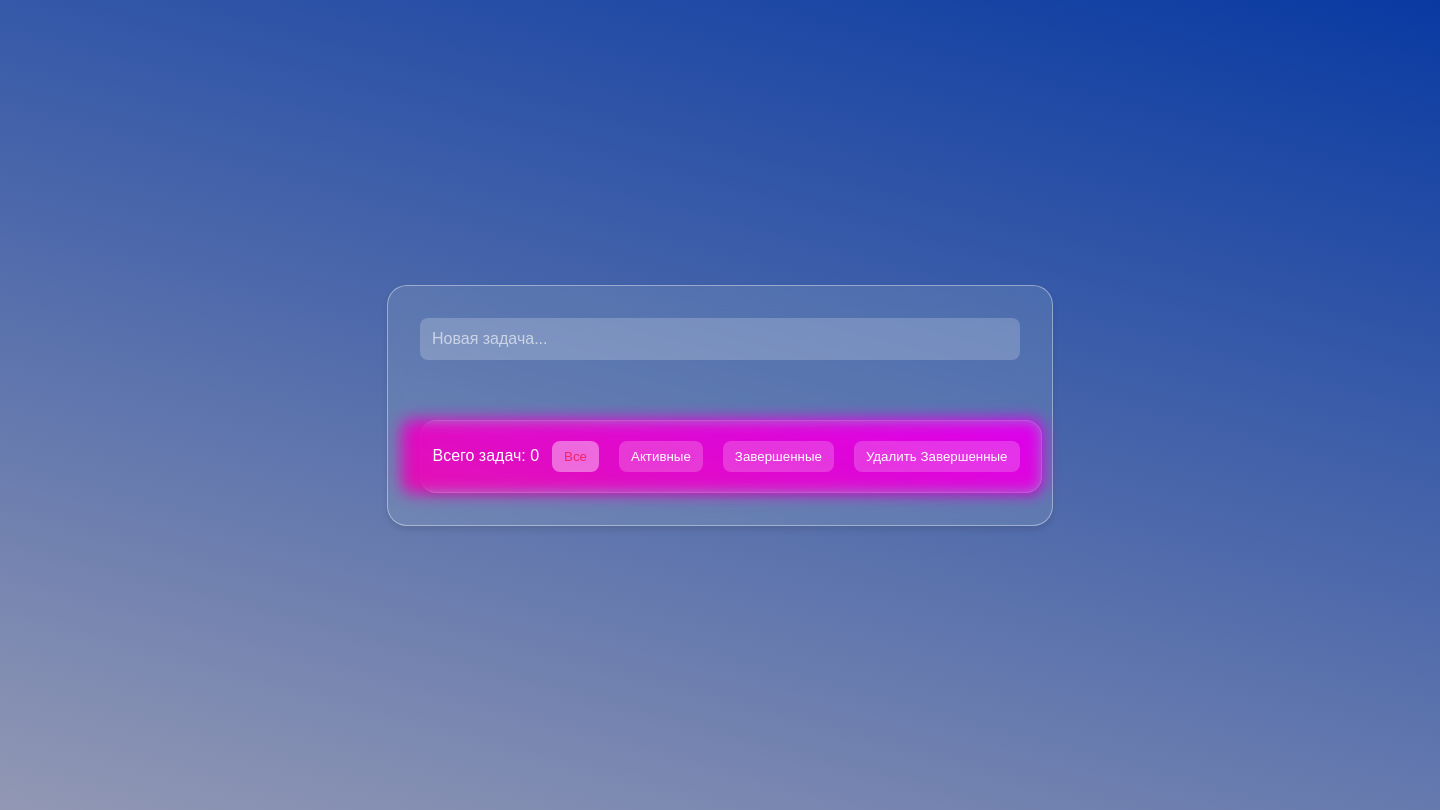
Test: удаление всех завершённых задач
// Добавляем две задачи
In the checkbox with placeholder "Новая задача...": (720, 338) [420,318,1020,360], type "Задача 1"
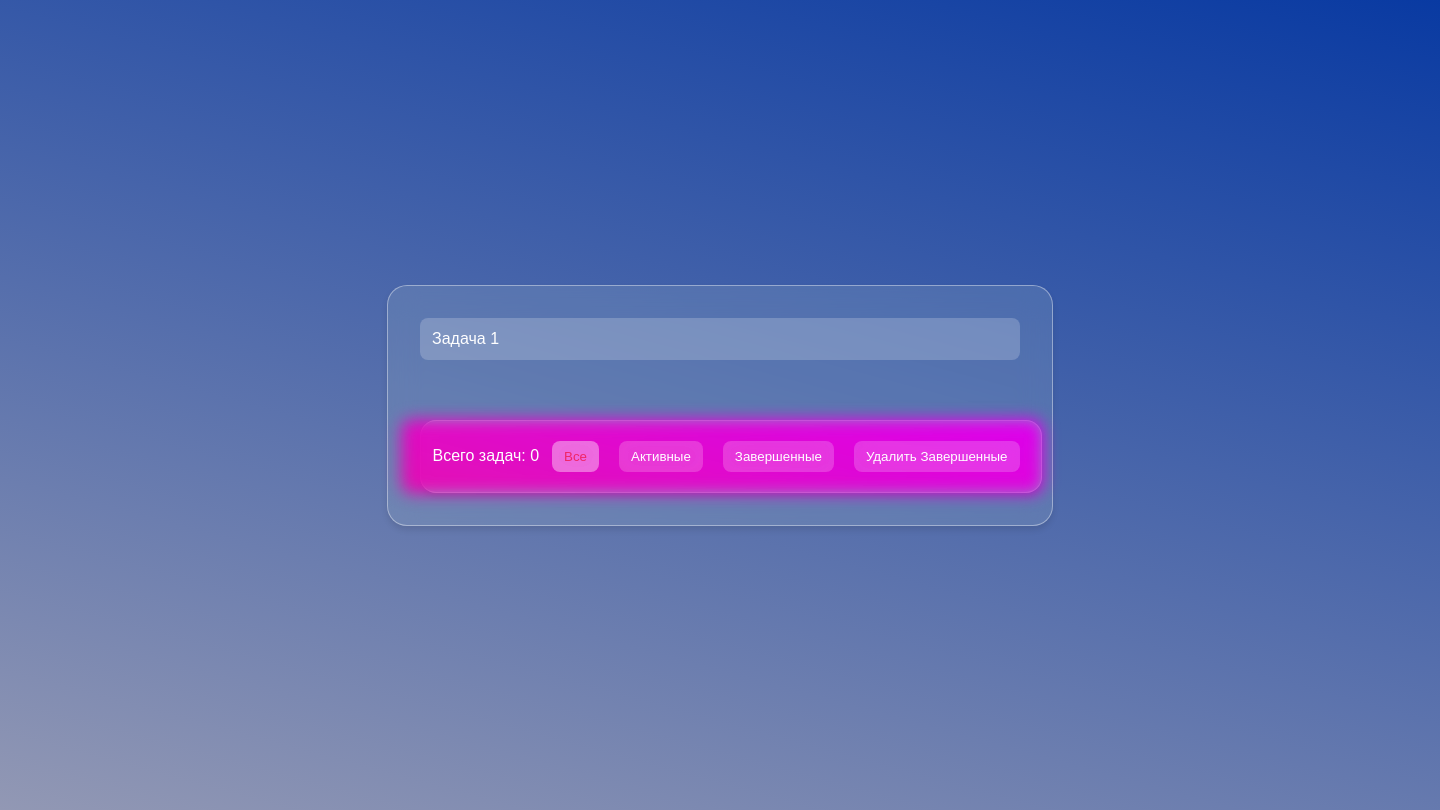
Submit the form from the checkbox with placeholder "Новая задача...", box [420,318,1020,360]
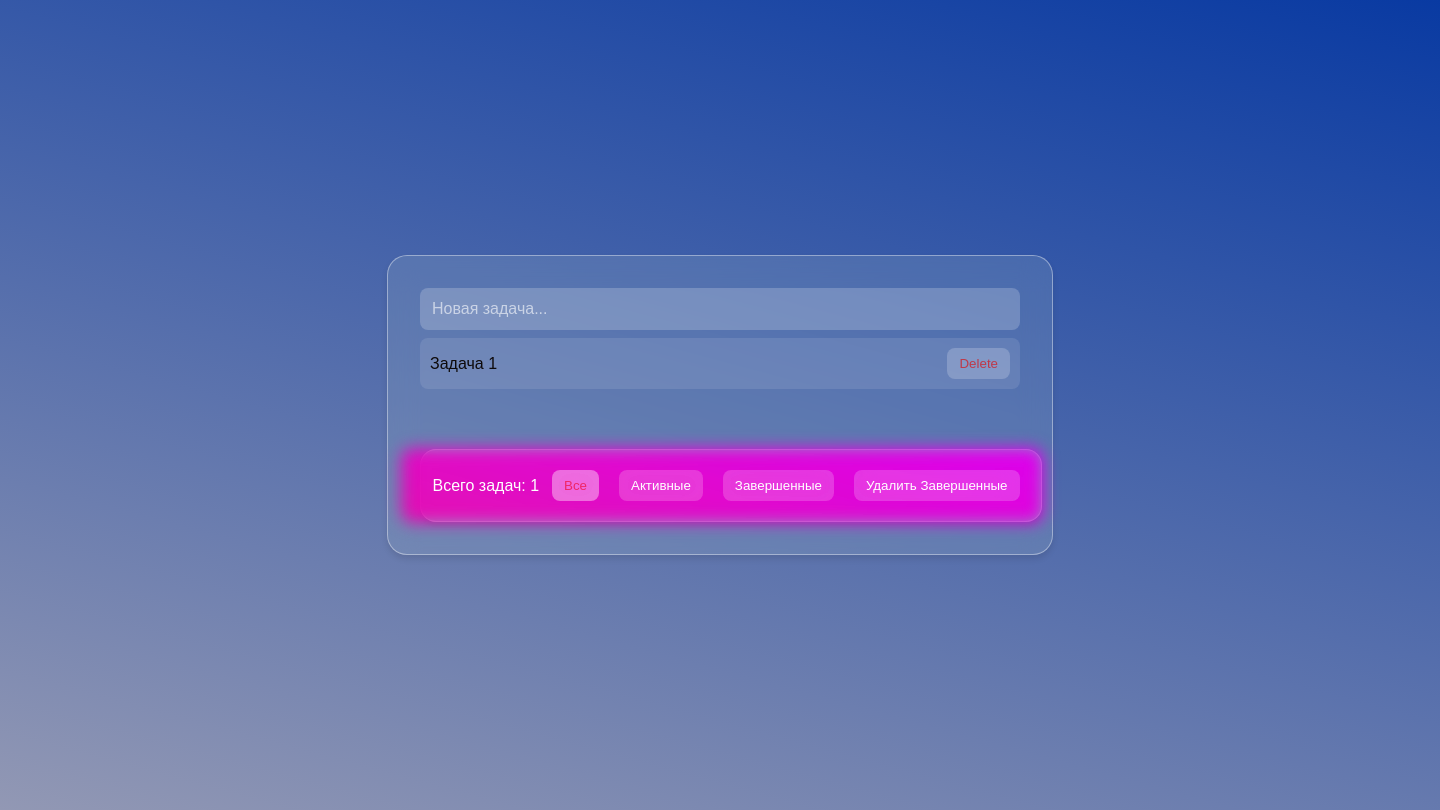
In the checkbox with placeholder "Новая задача...": (720, 309) [420,288,1020,330], type "Задача 2"
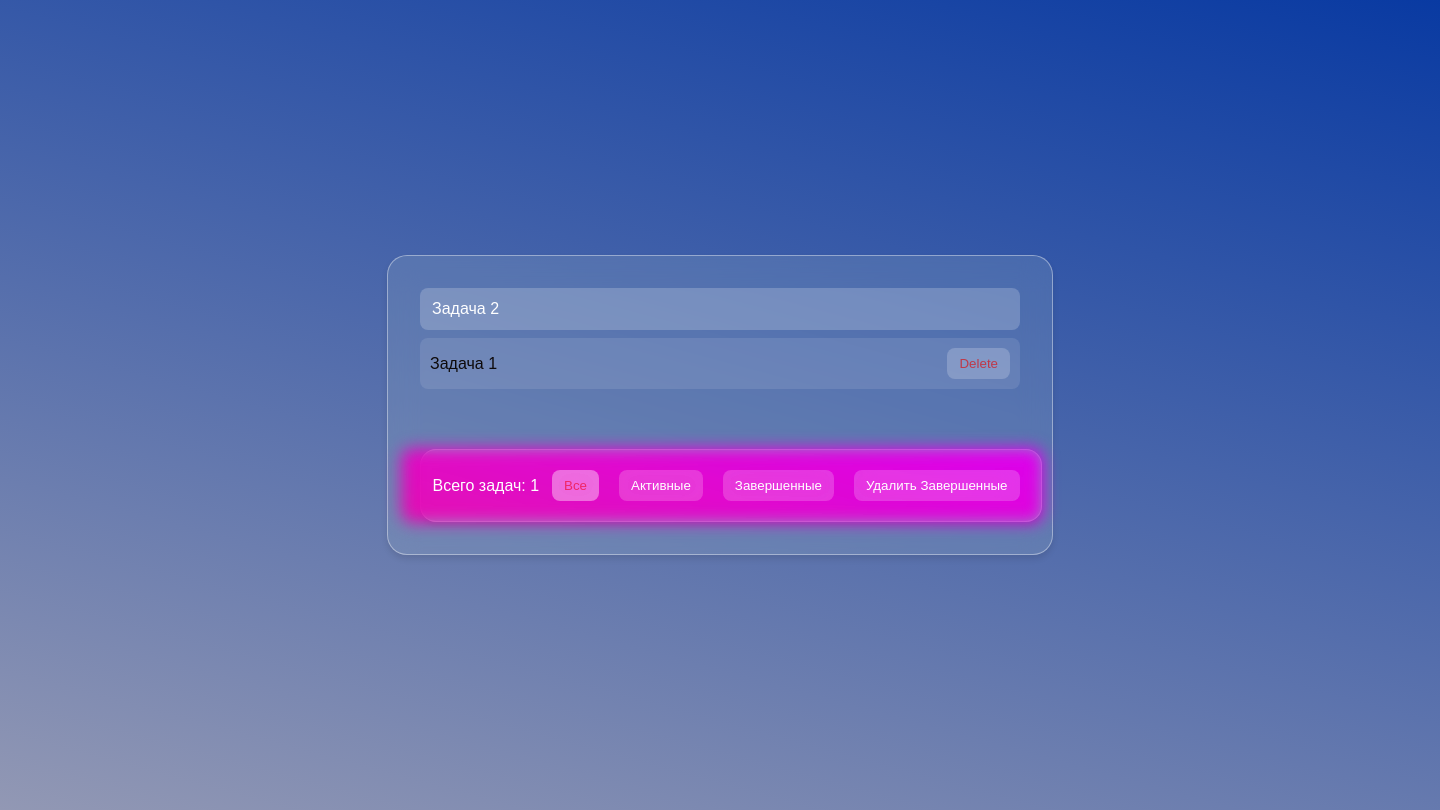
Submit the form from the checkbox with placeholder "Новая задача...", box [420,288,1020,330]
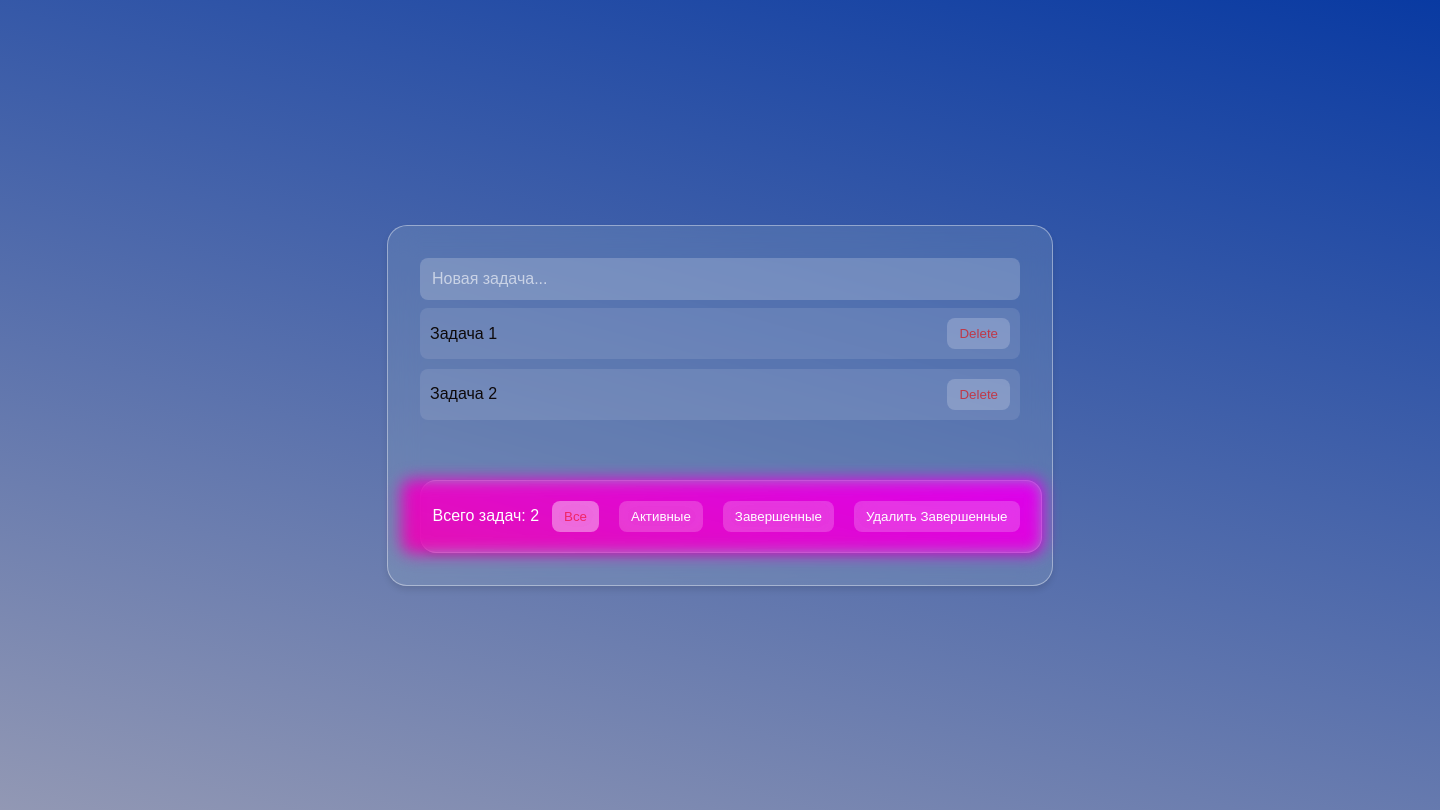
// Завершаем одну задачу
Click the text "Задача 1": (464, 333) [430,324,497,342]
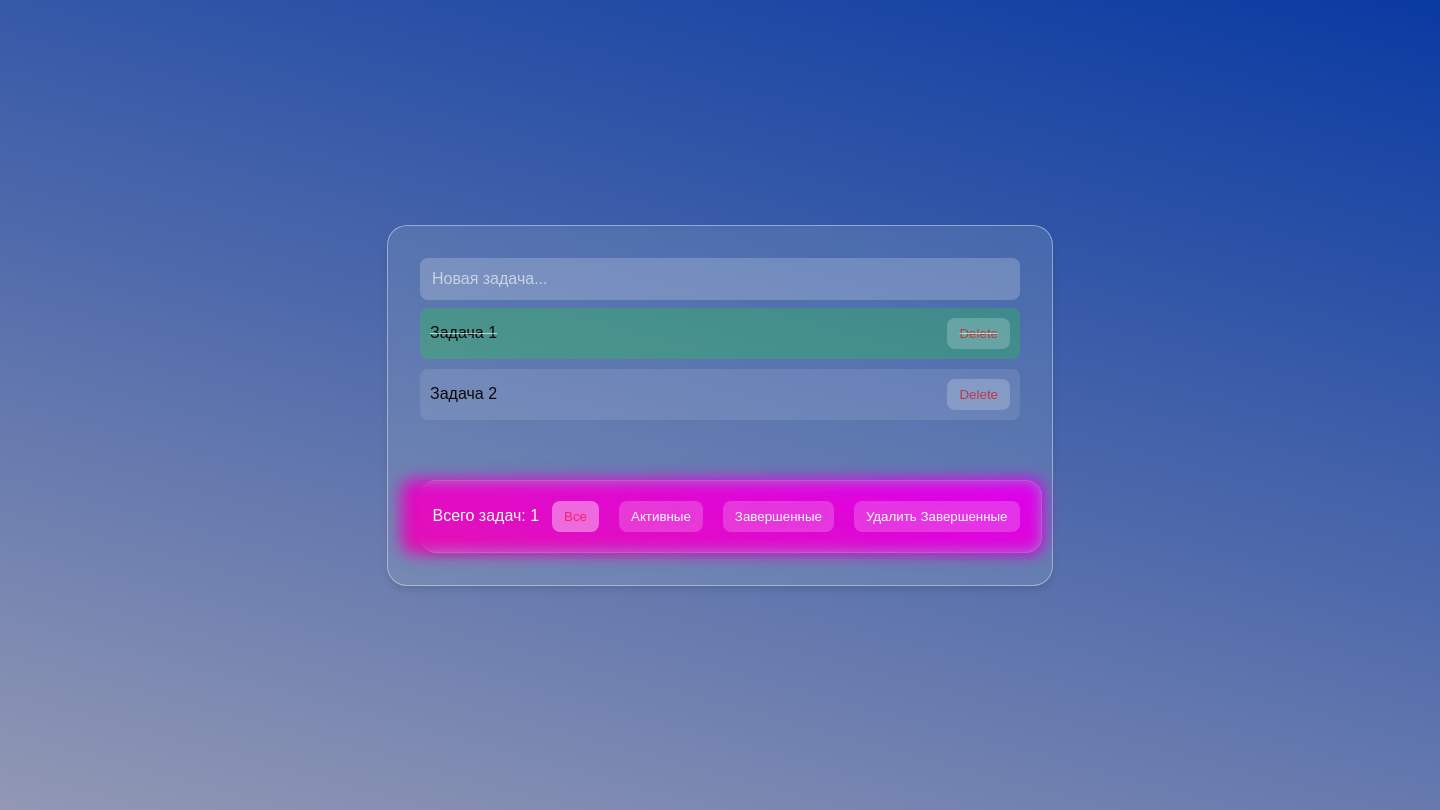
// Нажимаем на кнопку удаления завершённых задач
Click the button "Удалить Завершенные": (937, 516) [854,500,1020,532]
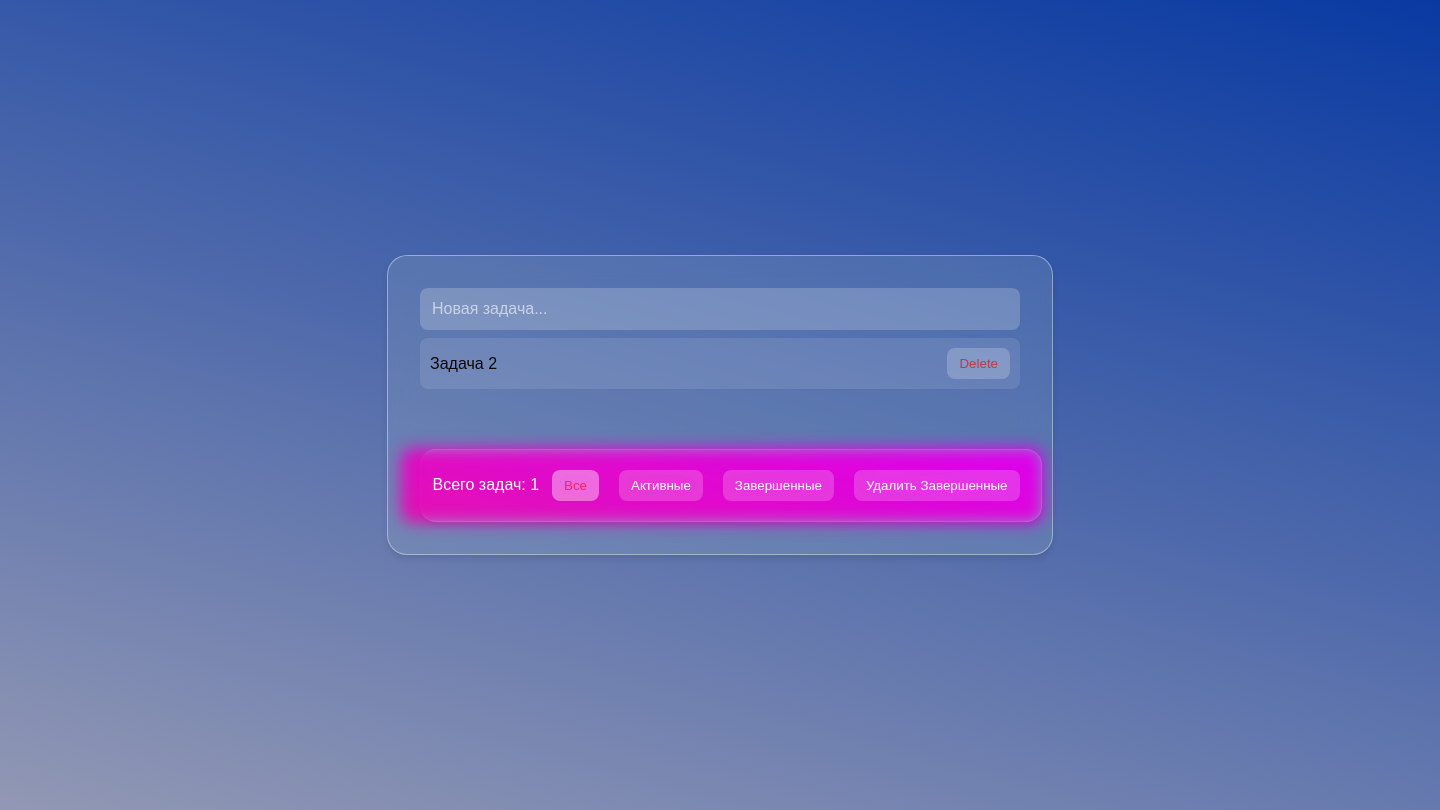
Now the text "Задача 2" is shown, box [430,354,497,372]
Now the text "Задача 1" is gone
